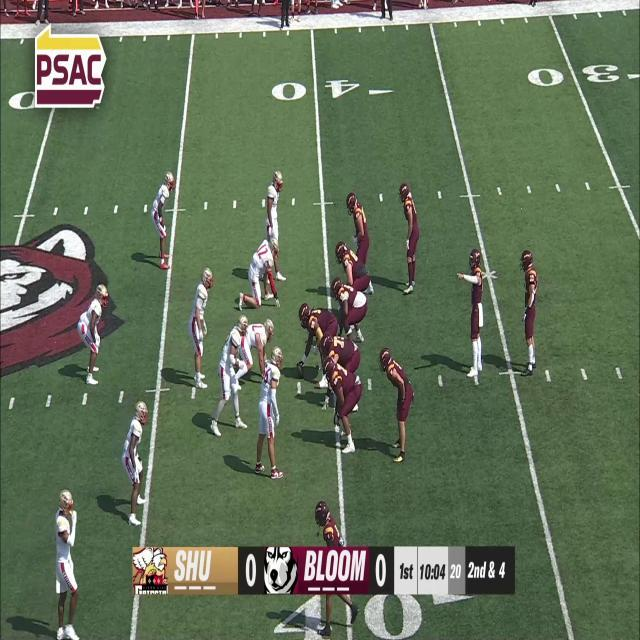football: (296, 362, 304, 377)
